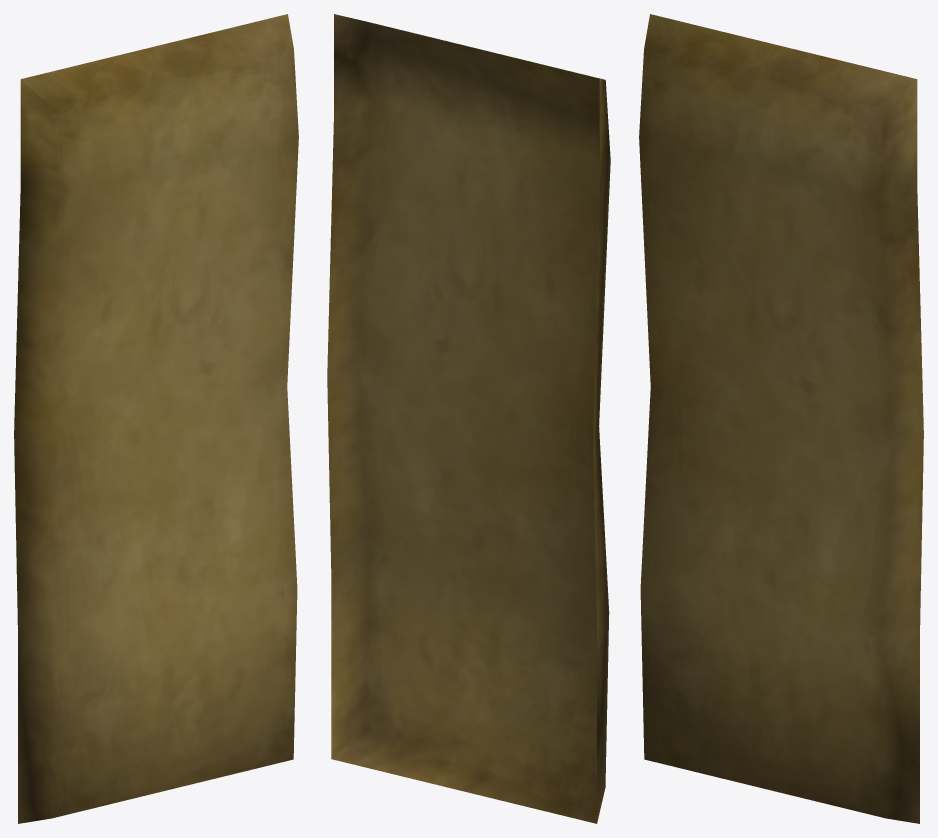
File: Wall_Batts1.fbx
3 renders of one model, left to right at view 1: azimuth 30°, elevation 25°; view 2: azimuth 150°, elevation 25°; view 3: azimuth 330°, elevation 25°, orthographic.
Parts seen in each view (by area): view 1: Batt_1; view 2: Batt_1; view 3: Batt_1.
Boxes of the visible parts, x1=… form: Batt_1: x1=14, y1=14, x2=298, y2=823; Batt_1: x1=327, y1=14, x2=610, y2=823; Batt_1: x1=639, y1=14, x2=923, y2=823.
Size of the model in its own units: 90.51 by 242 by 17.87.
